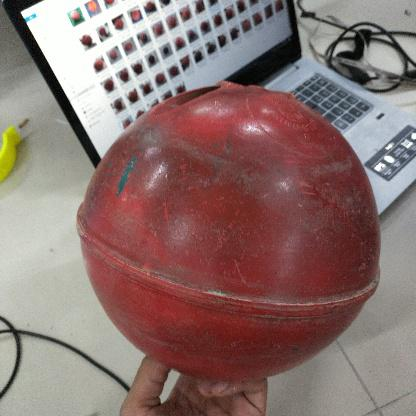red_buoy: (77, 84, 382, 386)
